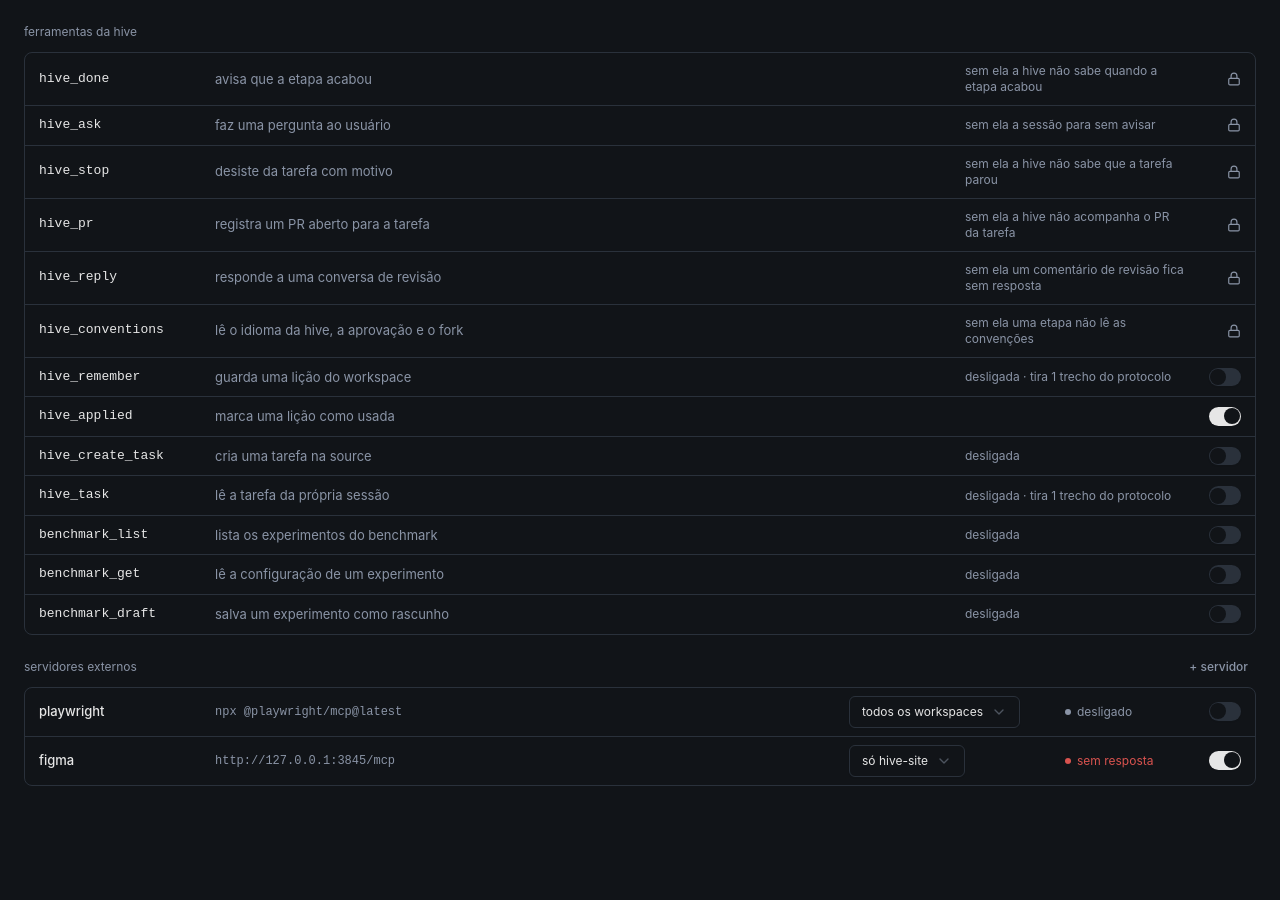
Test: a row's scope sends PUT with the new workspace; a server switched on shows verificando… until the re-read (#334)
What coordinates should you click on to do the following:
click the dropdown named "escopo de figma"
I would click on:
 (907, 760)
Its box is [849,744,965,776].
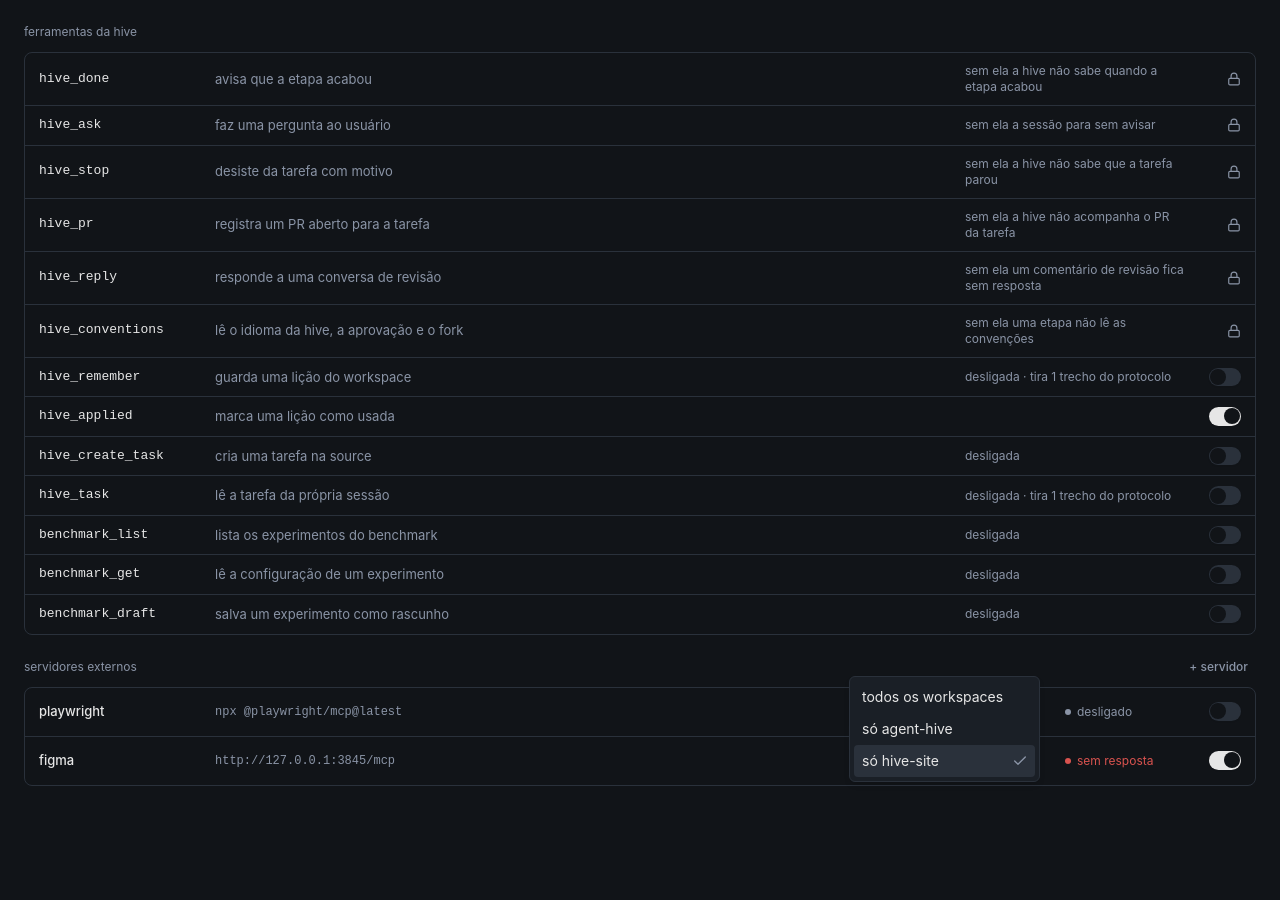
What coordinates should you click on to do the following:
click the option "só agent-hive"
I would click on:
 (907, 728)
Its box is [862,720,953,736].
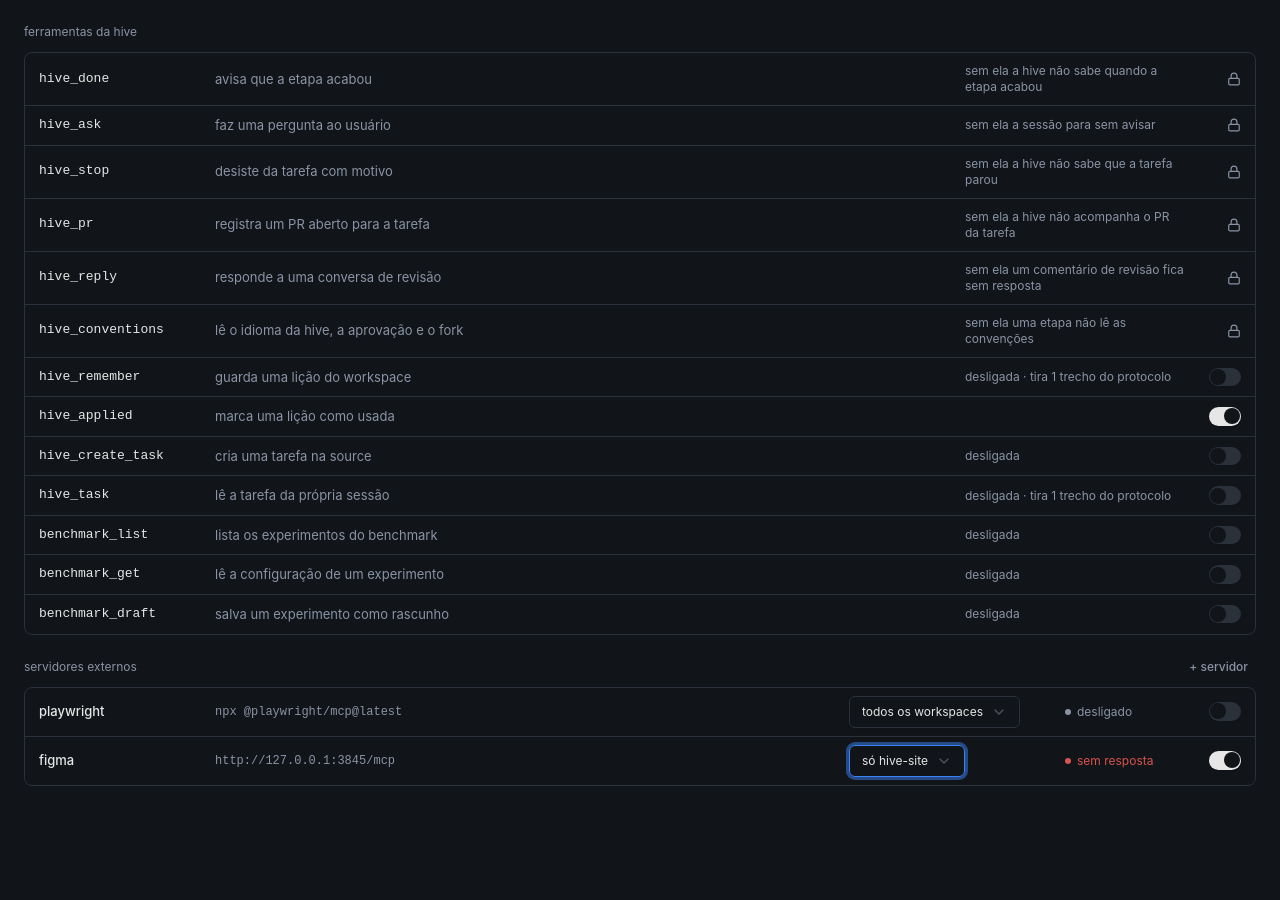
What coordinates should you click on to do the following:
click the switch named "playwright"
I would click on:
 (1225, 712)
Its box is [1209,702,1241,721].
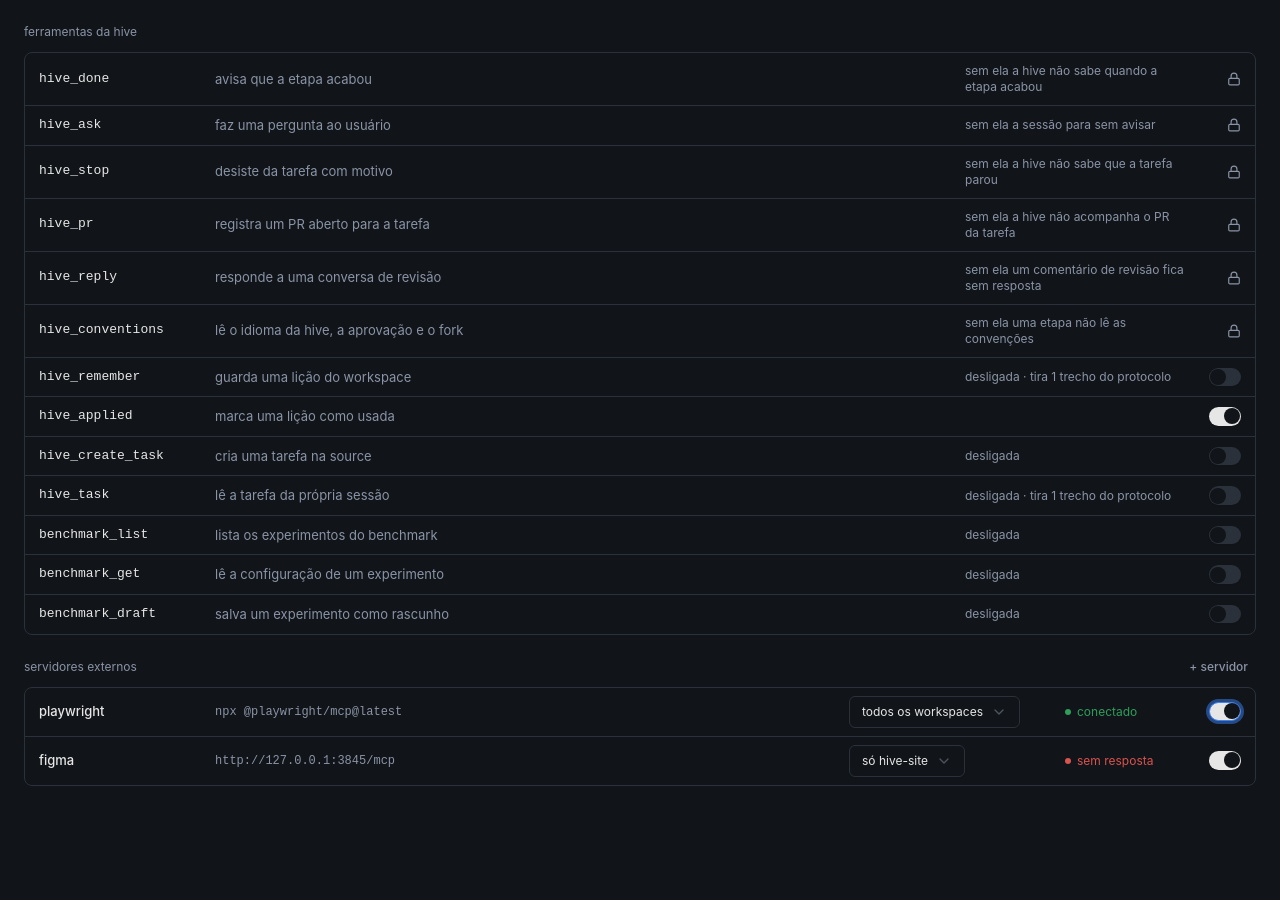
expect the text "conectado" is shown: met, box [1065,704,1137,718]
